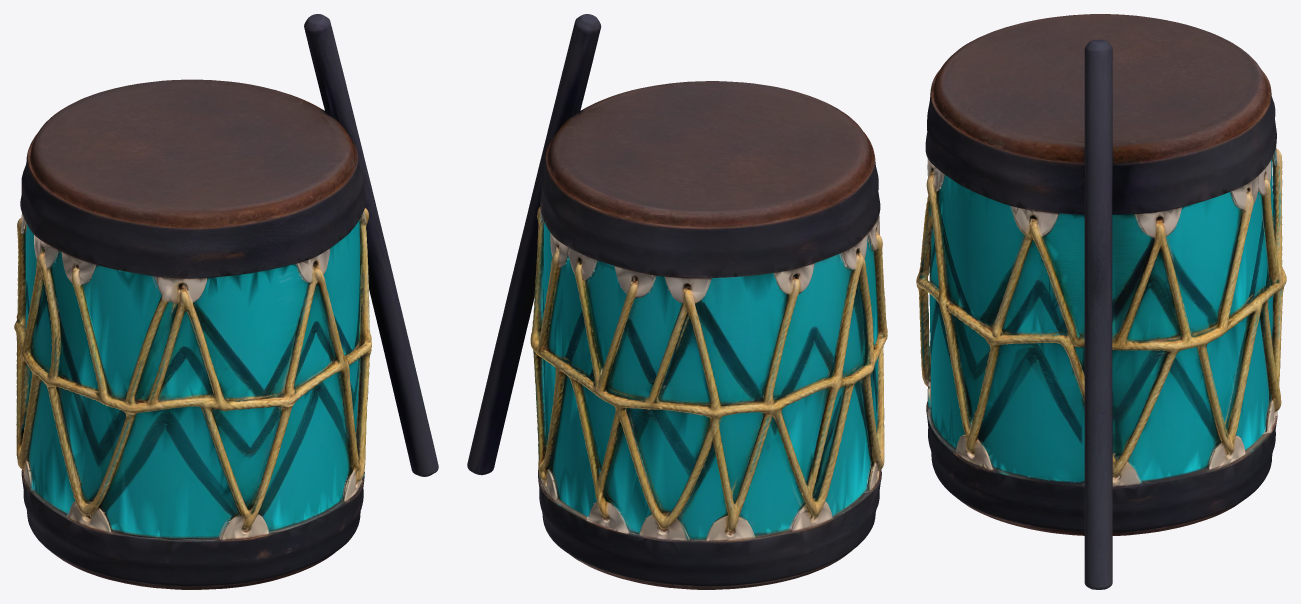
Rendered from EscaneoAzul.glb.
3 renders of one model, left to right at view 1: azimuth 30°, elevation 25°; view 2: azimuth 150°, elevation 25°; view 3: azimuth 270°, elevation 25°, orthographic. The views are drawn at different scales.
Visible parts, largest first — view 1: node_0; view 2: node_0; view 3: node_0.
Boxes of the visible parts, x1=… form: node_0: x1=14, y1=14, x2=438, y2=589; node_0: x1=467, y1=14, x2=887, y2=589; node_0: x1=916, y1=14, x2=1286, y2=589.
Bounding box in the file's own units: 0.7946 × 0.9241 × 0.6265.
1 material, 1 textured.
